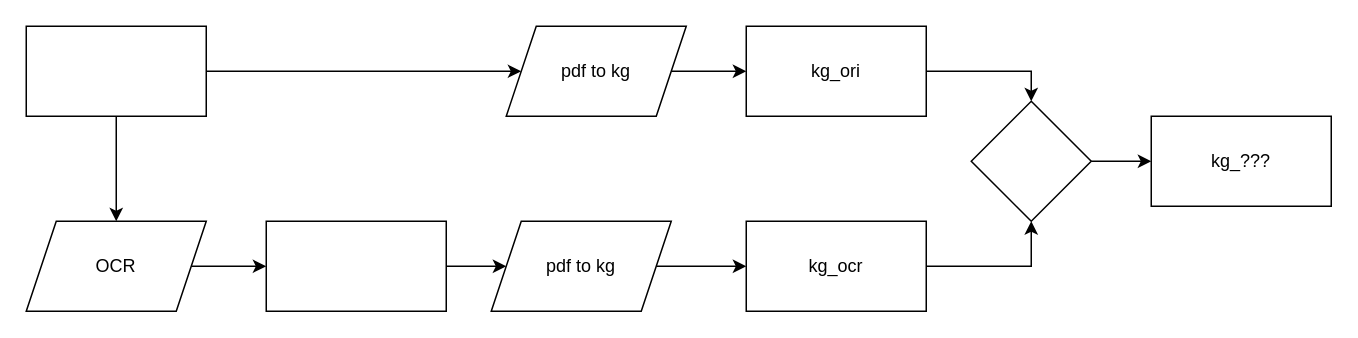
Some shapes in this 1358 by 338 pixel diagram are drawn without their labels. Each missing label, with the centre of its shape:
"pdf_ocr" goes at (355,265).
"pdf_ori" goes at (115,70).
"select best" goes at (1030,160).
